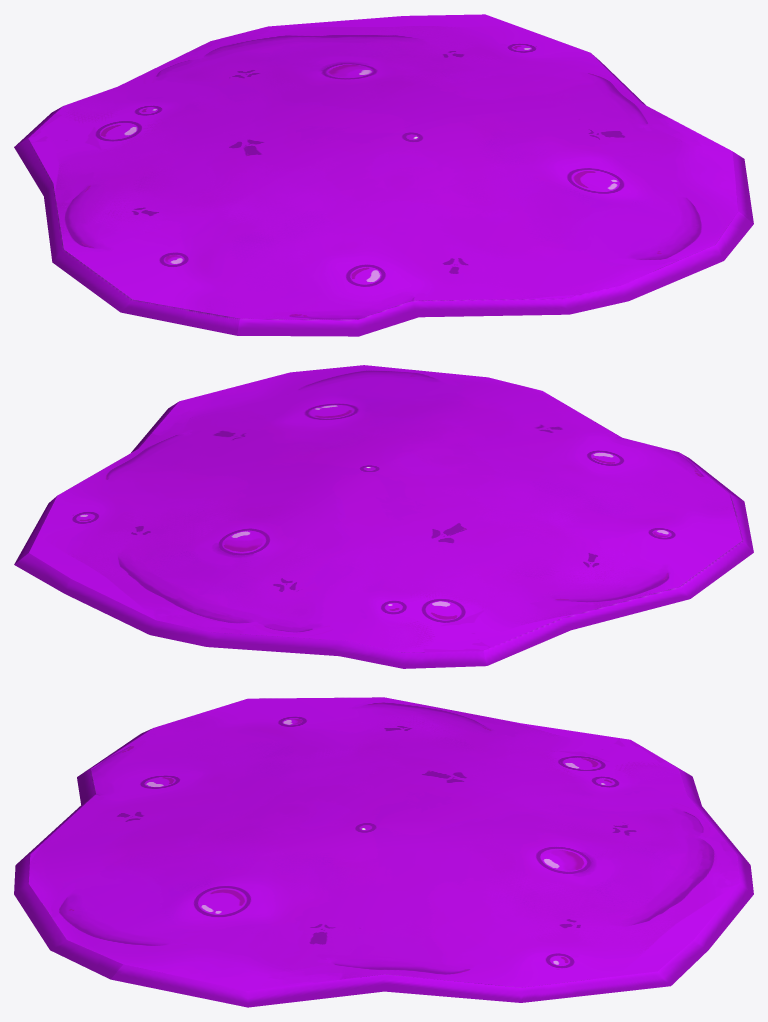
File: Doku.fbx
3 renders of one model, top to bottom at view 1: azimuth 30°, elevation 25°; view 2: azimuth 150°, elevation 25°; view 3: azimuth 270°, elevation 25°, orthographic. The views are drawn at different scales.
Parts seen in each view (by area): view 1: doku; view 2: doku; view 3: doku.
Boxes of the visible parts, bbox=[...] form: doku: bbox=[14, 14, 753, 336]; doku: bbox=[14, 365, 753, 668]; doku: bbox=[14, 697, 753, 1007].
Bounding box in the file's own units: 67.31 × 5 × 68.7.
1 material, 1 textured.
